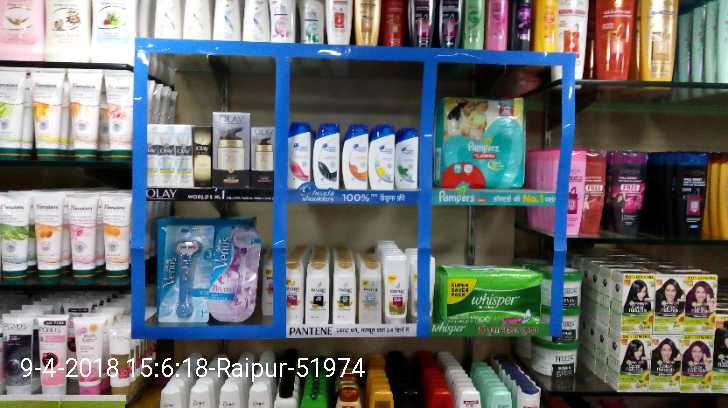venus: (159, 225, 215, 322), (215, 225, 261, 325)
